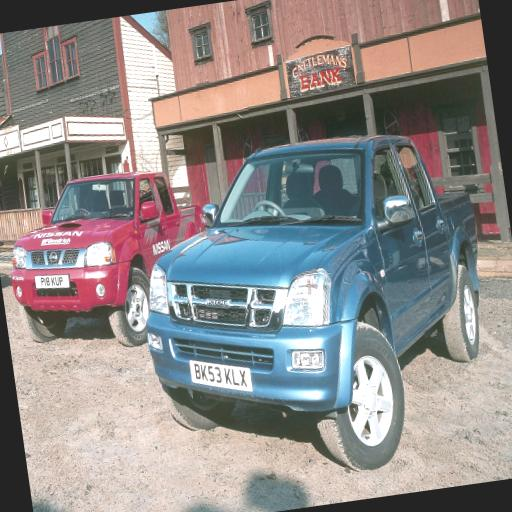pickup: (127, 114, 512, 498), (0, 162, 222, 365)
